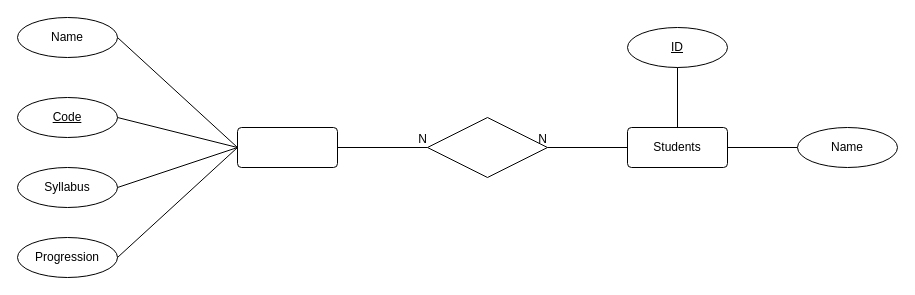
Some shapes in this 915 by 295 pixel diagram are drawn without their labels. Each missing label, with the centre of its shape:
Courses: pixel 287 147
Read_Course: pixel 487 147
